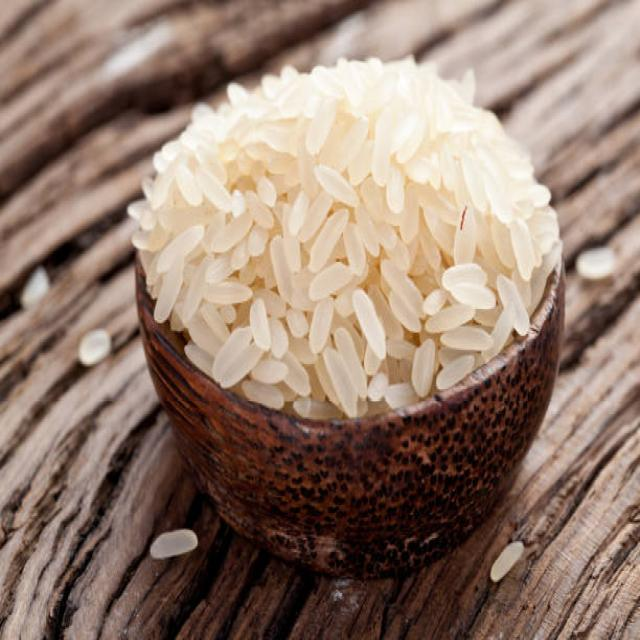rice: (126, 58, 562, 416)
